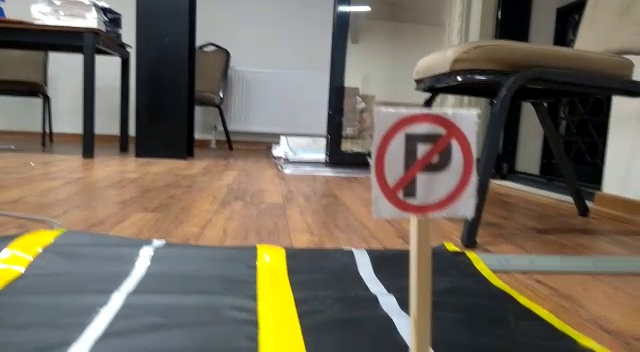park_yapilmaz: (369, 109, 478, 217)
